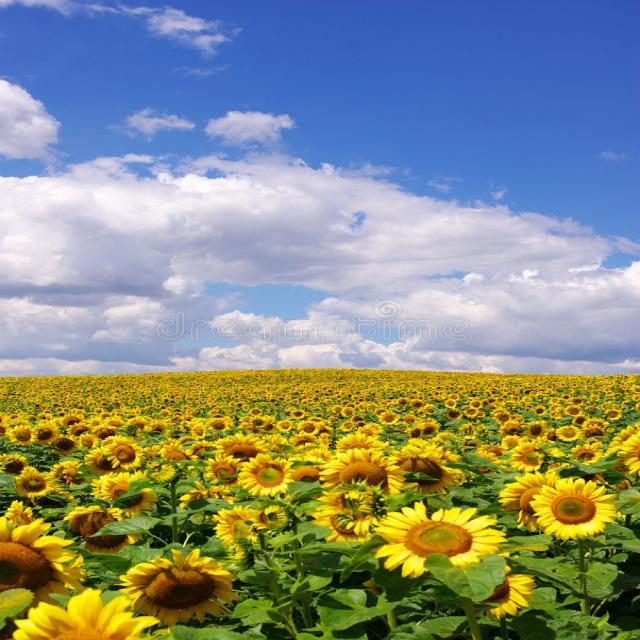sunflower: (356, 499, 514, 578), (107, 550, 249, 630), (528, 475, 626, 543), (311, 441, 407, 504), (79, 466, 165, 522), (204, 506, 281, 554), (237, 452, 295, 497), (98, 434, 148, 468), (6, 421, 45, 449), (551, 424, 588, 444), (371, 409, 406, 426)
